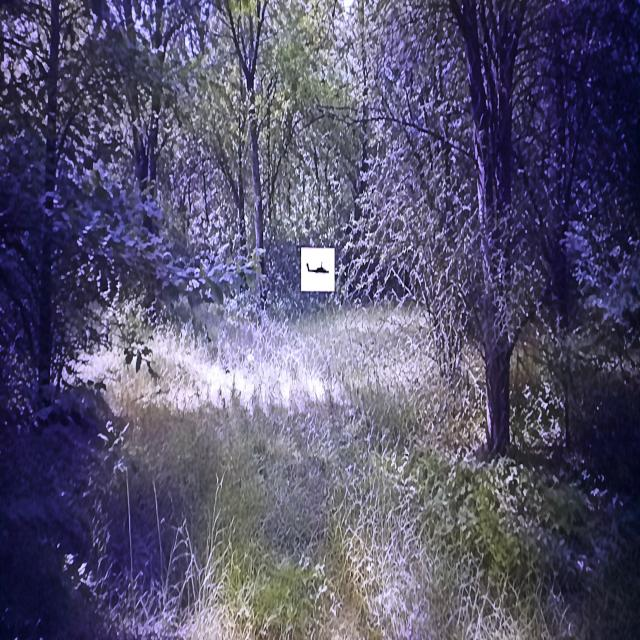Apache friendly: (306, 263, 329, 275)
